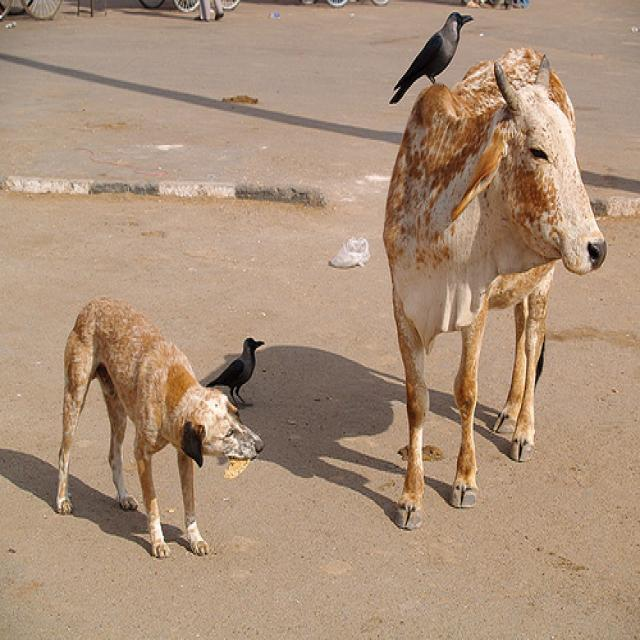cow: (383, 41, 603, 531)
